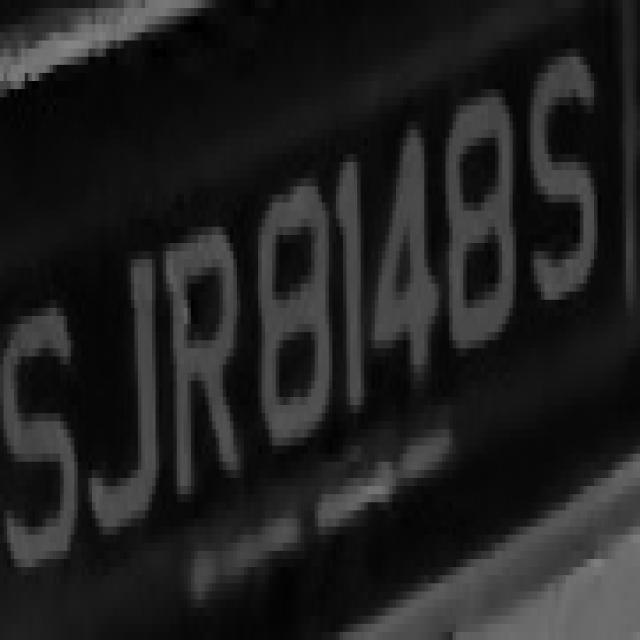1: (332, 130, 375, 429)
4: (357, 113, 442, 430)
8: (244, 170, 343, 462), (432, 73, 524, 364)
J: (89, 235, 159, 567)
R: (159, 202, 248, 518)
S: (10, 251, 85, 624), (527, 32, 615, 324)
